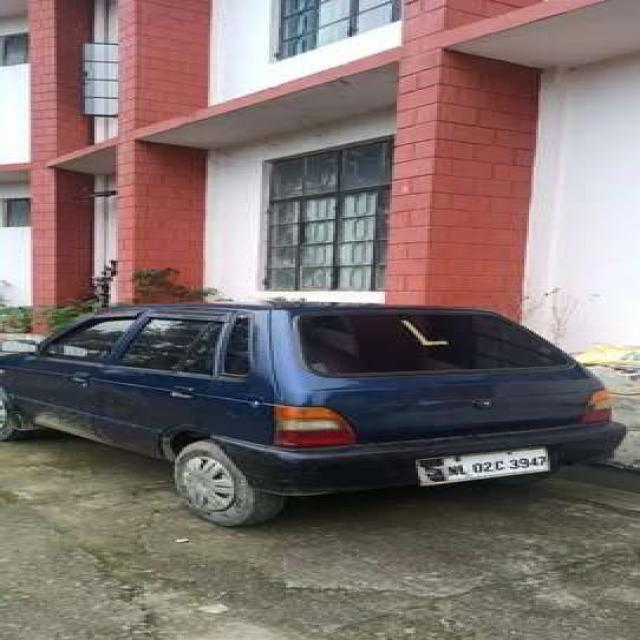plate: (412, 448, 558, 482)
